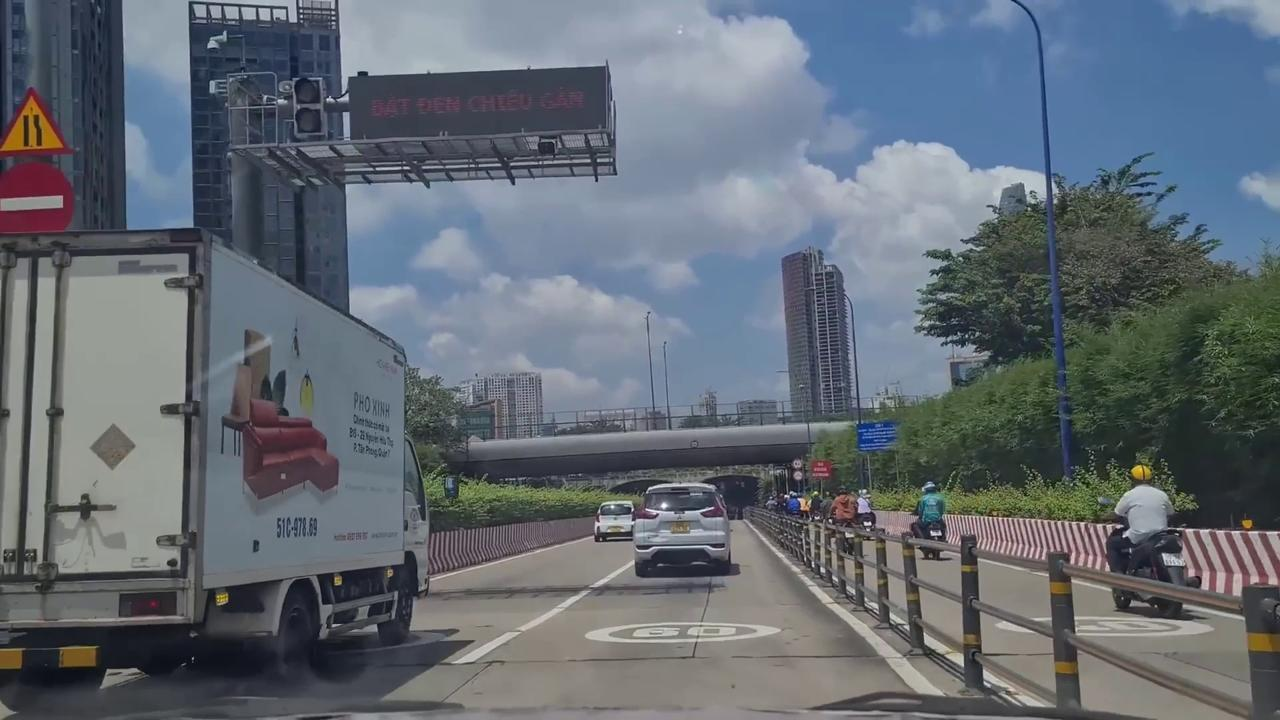Cấm đi ngược chiều: (2, 158, 89, 253)
Đuờng hẹp: (1, 86, 76, 157)
